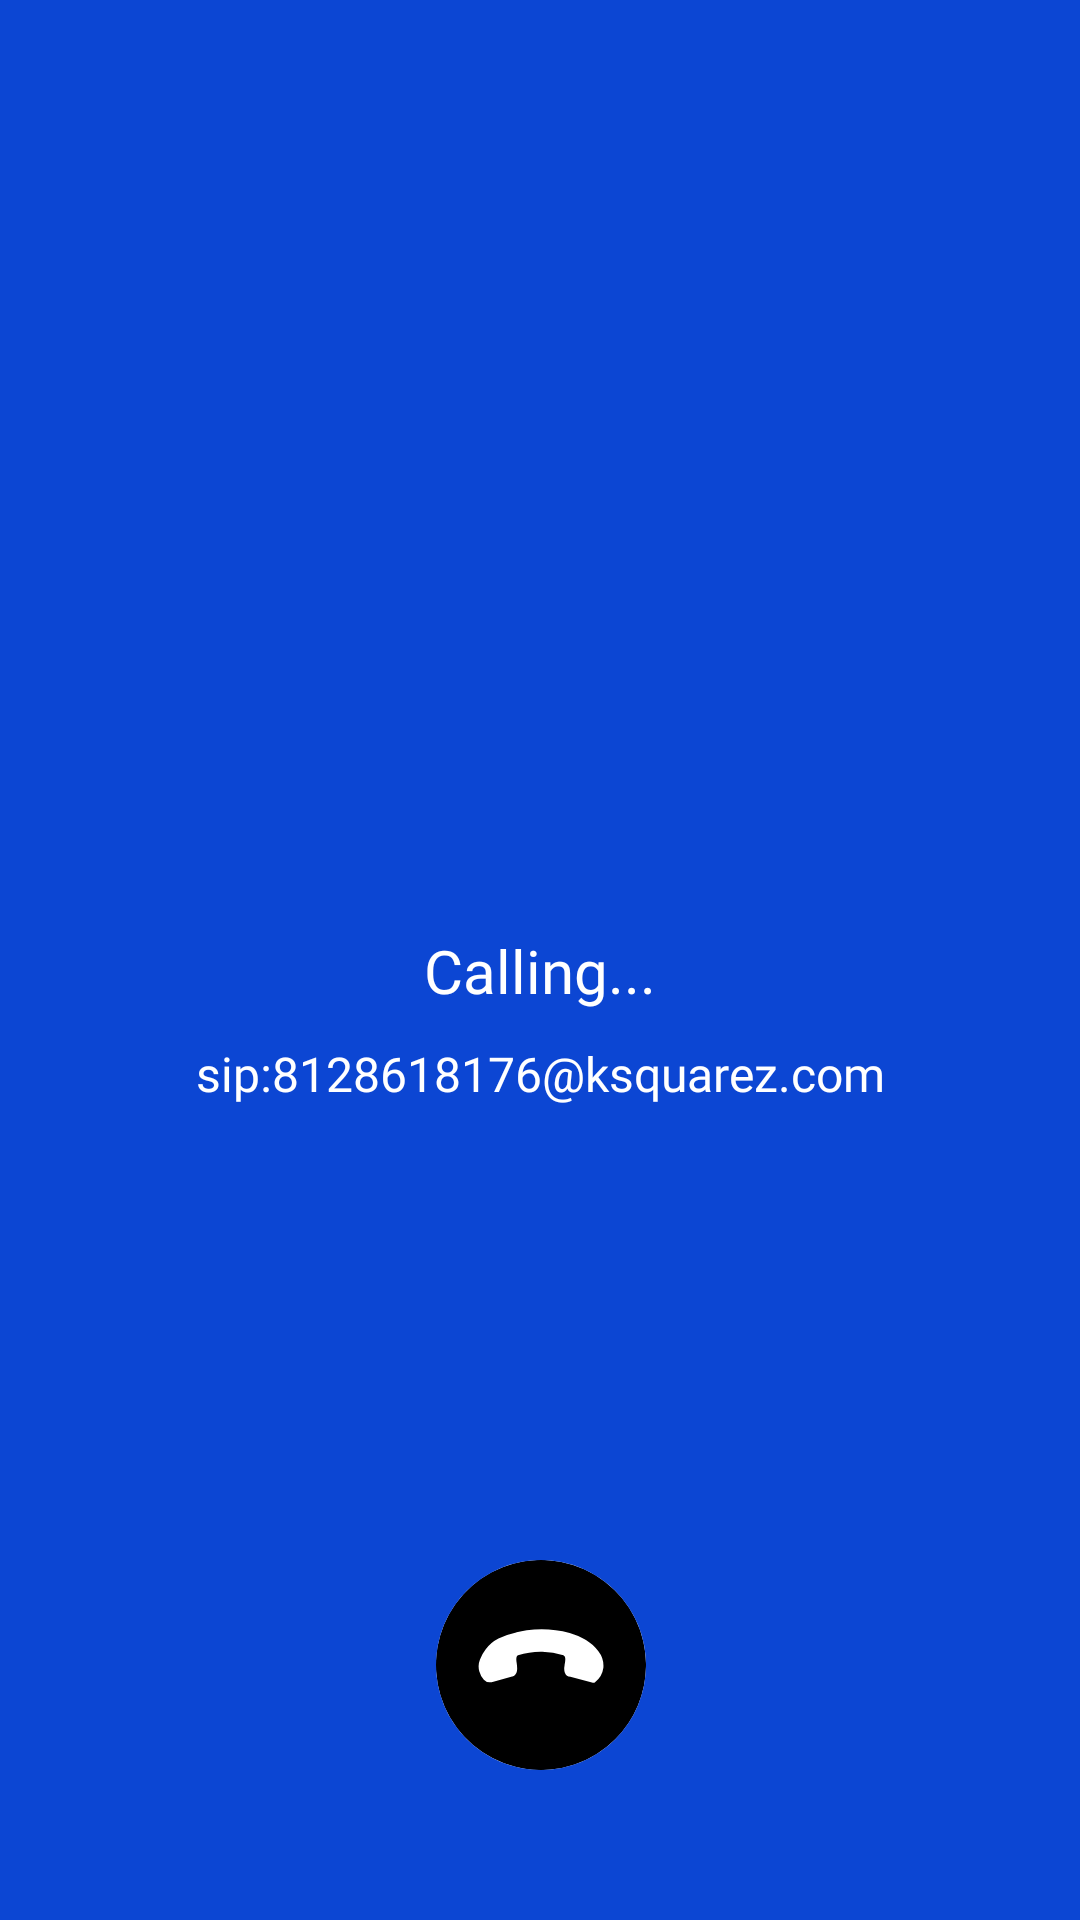

Point at icon controls on the screen. Image size 1080*1920, points as (x,y).
end call: (541,1665)
